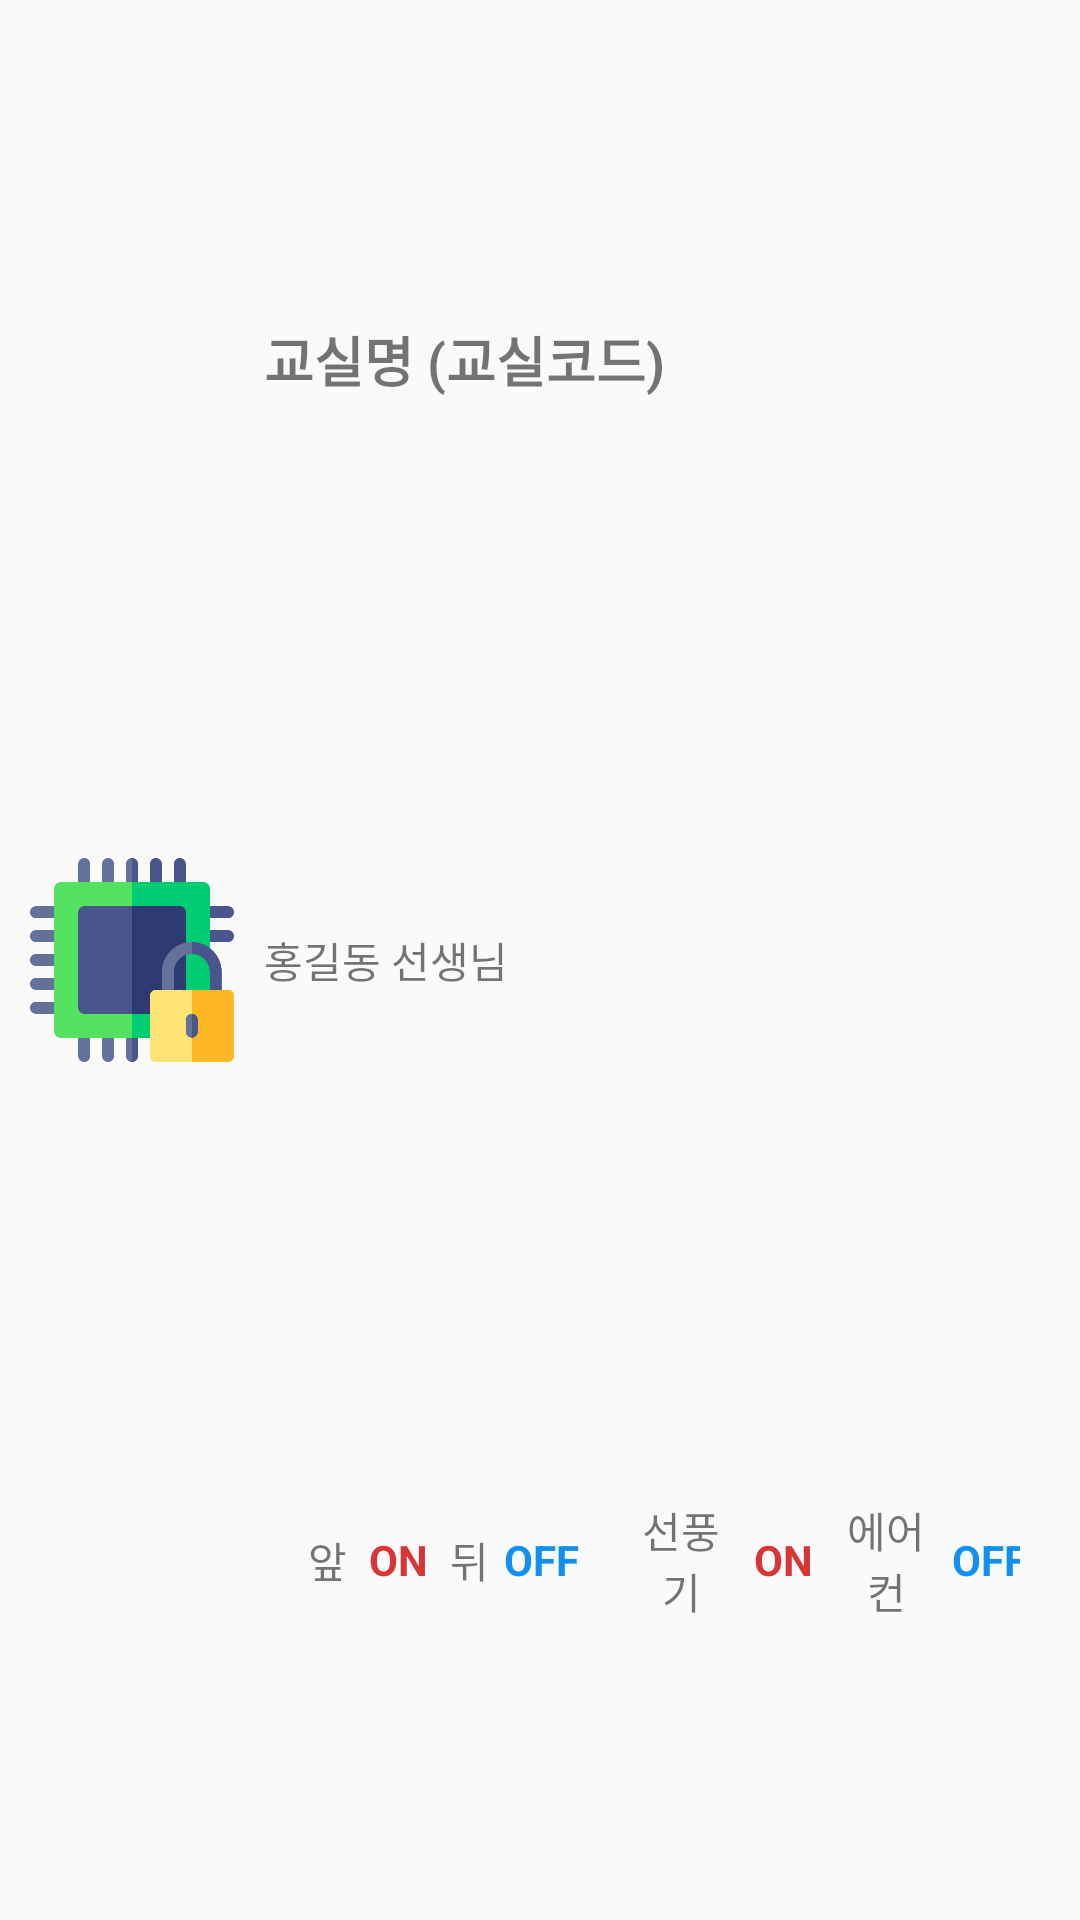

Icon click points for this 1080 × 1920 phone screenshot, format [x,y]:
chip: [132,960]
